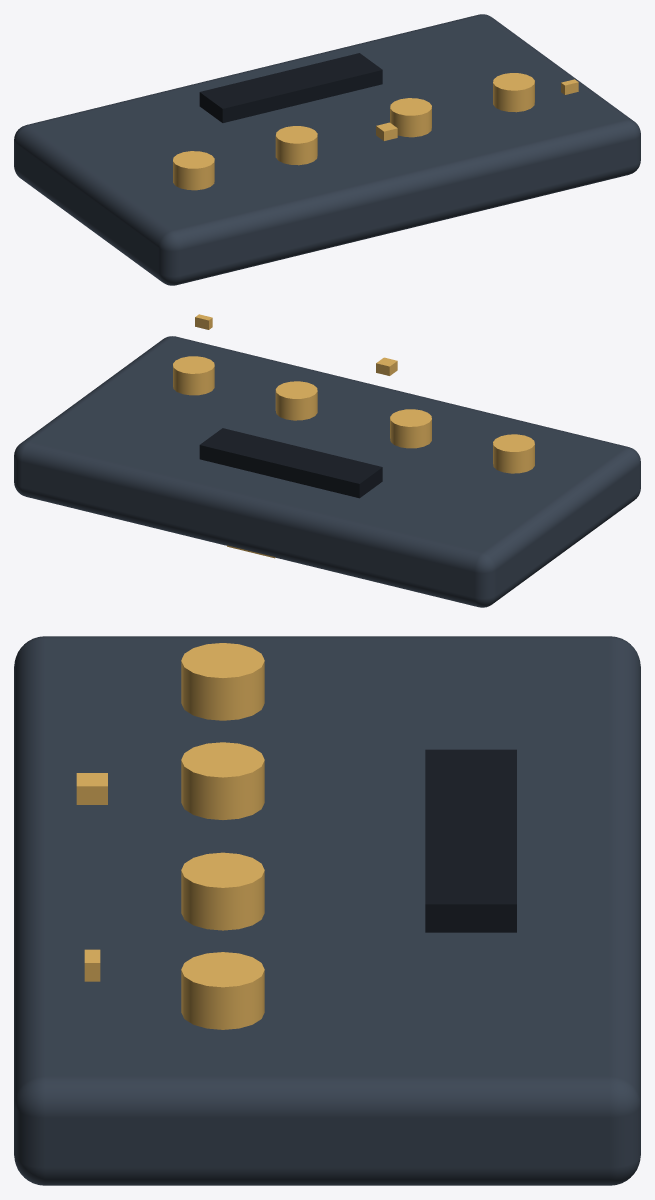
3 renders of one model, top to bottom at view 1: azimuth 30°, elevation 25°; view 2: azimuth 150°, elevation 25°; view 3: azimuth 270°, elevation 25°, orthographic. The views are drawn at different scales.
Parts seen in each view (by area): view 1: audio-body, display-surface, knob--0.05, knob--0.14, knob-0.14, knob-0.05; view 2: audio-body, display-surface, knob-0.05, knob-0.14, knob--0.05, knob--0.14; view 3: audio-body, display-surface, knob-0.05, knob-0.14, knob--0.14, knob--0.05, audio-accent.
Part boxes in pixels (left/top/right/bottom): audio-body: left=14, top=14, right=640, bottom=285; display-surface: left=199, top=53, right=382, bottom=122; knob--0.05: left=275, top=126, right=317, bottom=165; knob--0.14: left=173, top=151, right=214, bottom=190; knob-0.14: left=493, top=73, right=534, bottom=112; knob-0.05: left=390, top=98, right=431, bottom=137; audio-body: left=14, top=336, right=640, bottom=607; display-surface: left=199, top=428, right=382, bottom=498; knob-0.05: left=275, top=381, right=317, bottom=420; knob-0.14: left=173, top=356, right=214, bottom=395; knob--0.05: left=390, top=409, right=431, bottom=448; knob--0.14: left=493, top=434, right=534, bottom=473; audio-body: left=14, top=636, right=640, bottom=1185; display-surface: left=425, top=749, right=516, bottom=932; knob-0.05: left=181, top=852, right=264, bottom=930; knob-0.14: left=181, top=952, right=264, bottom=1029; knob--0.14: left=181, top=643, right=264, bottom=720; knob--0.05: left=181, top=742, right=264, bottom=819; audio-accent: left=76, top=773, right=107, bottom=804.
Size of the model in its own units: 0.42 by 0.078 by 0.24.
